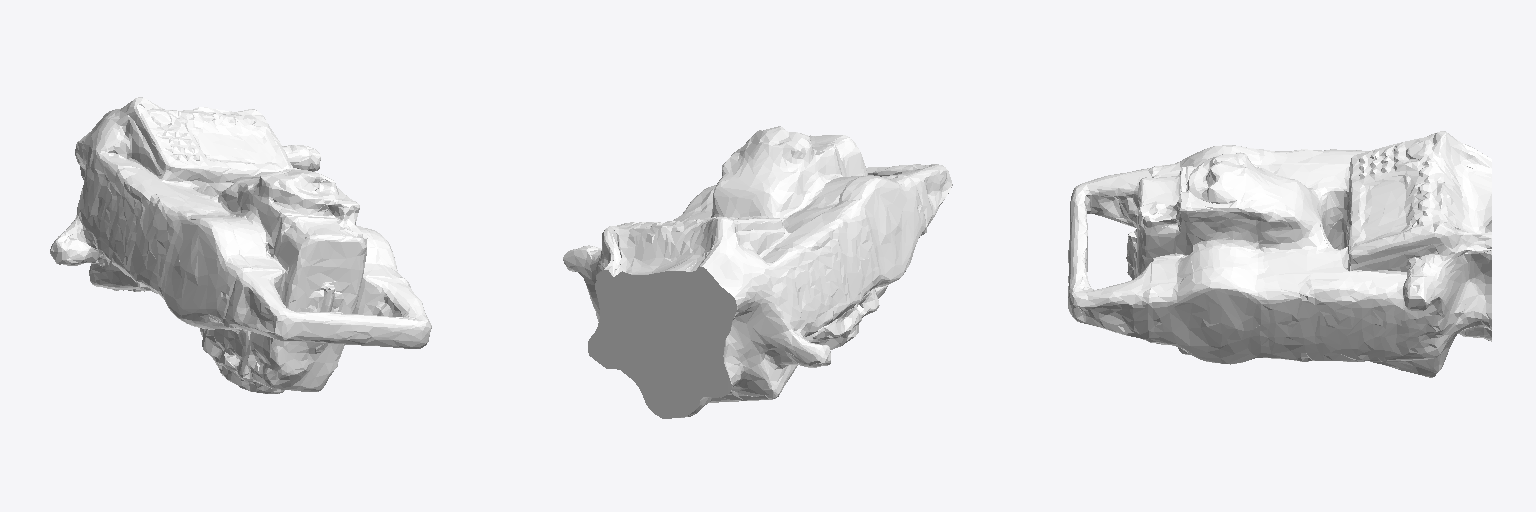
Rendered from 15milaeurogiallo.obj.
The picture shows the model from 3 angles: view 1: azimuth 30°, elevation 25°; view 2: azimuth 150°, elevation 25°; view 3: azimuth 270°, elevation 25°; orthographic projection.
Size of the model in its own units: 19.44 by 14.96 by 27.